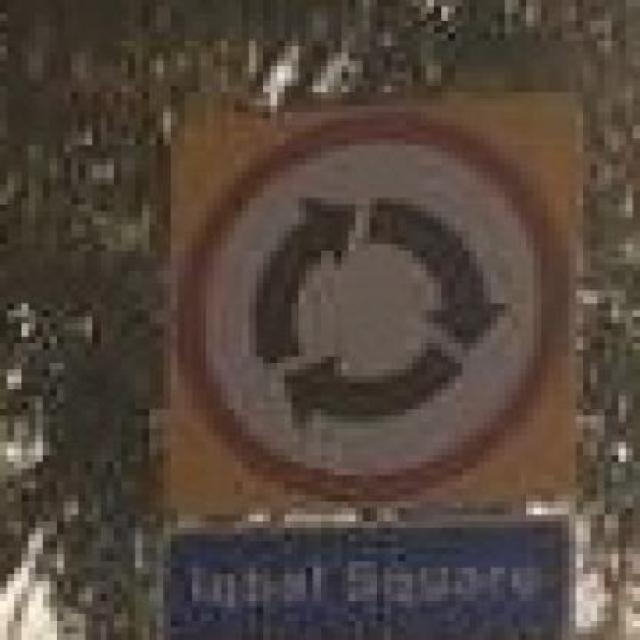roundabout: (174, 122, 568, 497)
